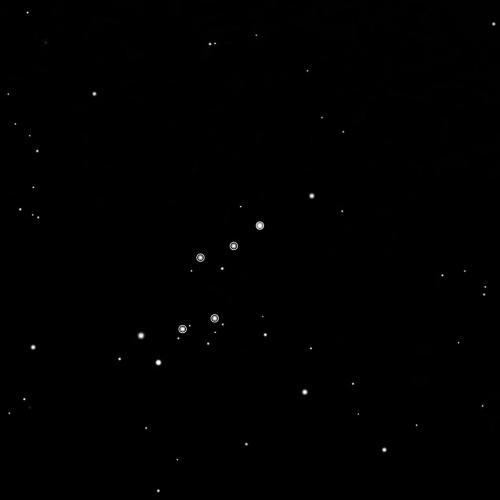lyra: (176, 216, 267, 337)
